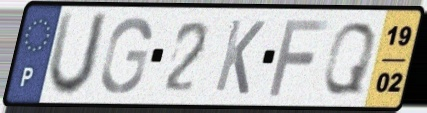2: (160, 19, 210, 94)
F: (265, 16, 332, 99)
G: (98, 15, 154, 96)
K: (211, 16, 268, 98)
Q: (319, 19, 380, 97)
U: (44, 10, 113, 100)
